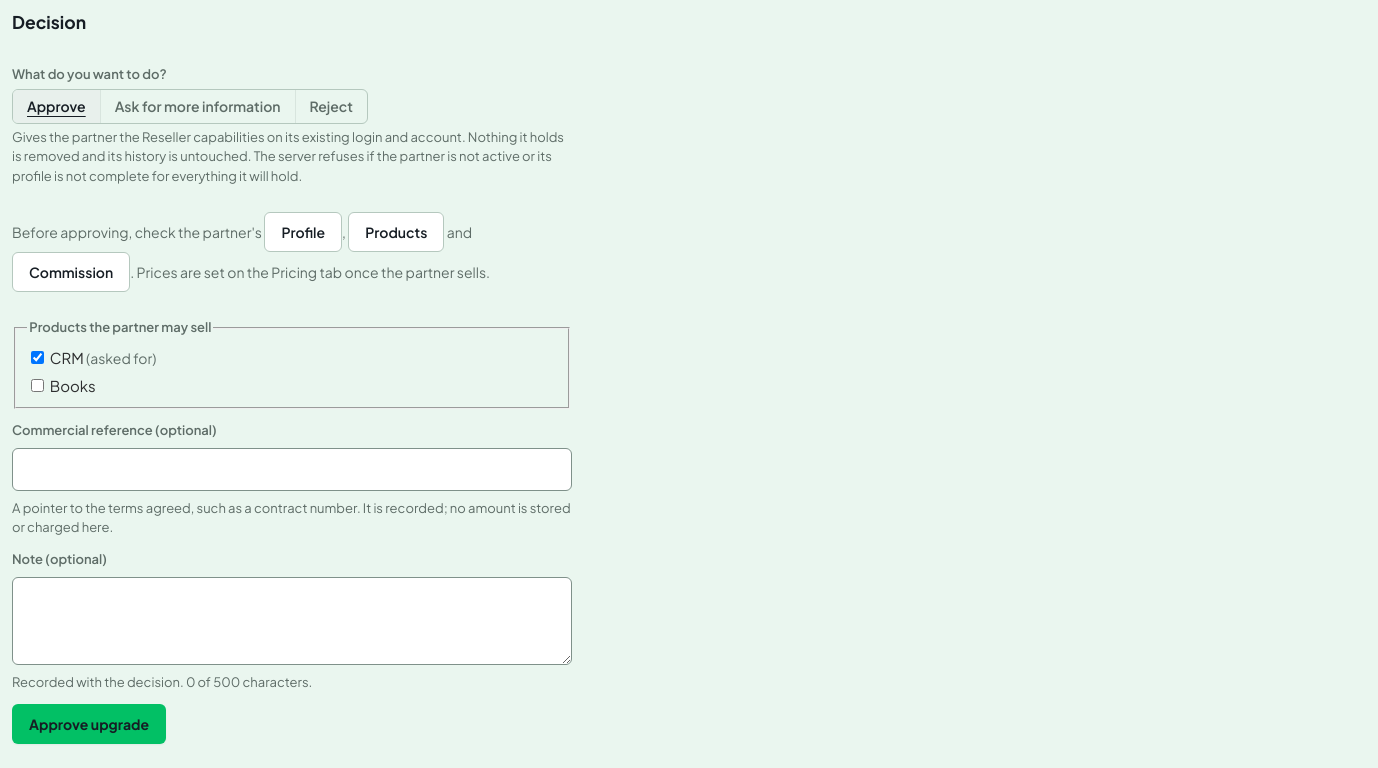
deciding › shows a conflict (already decided) in the server's words
(page scrolled)
What coordinates should you click on to do the following:
click the button "Approve upgrade"
I would click on:
 (89, 724)
Its box is [12, 704, 166, 744].
(page scrolled)
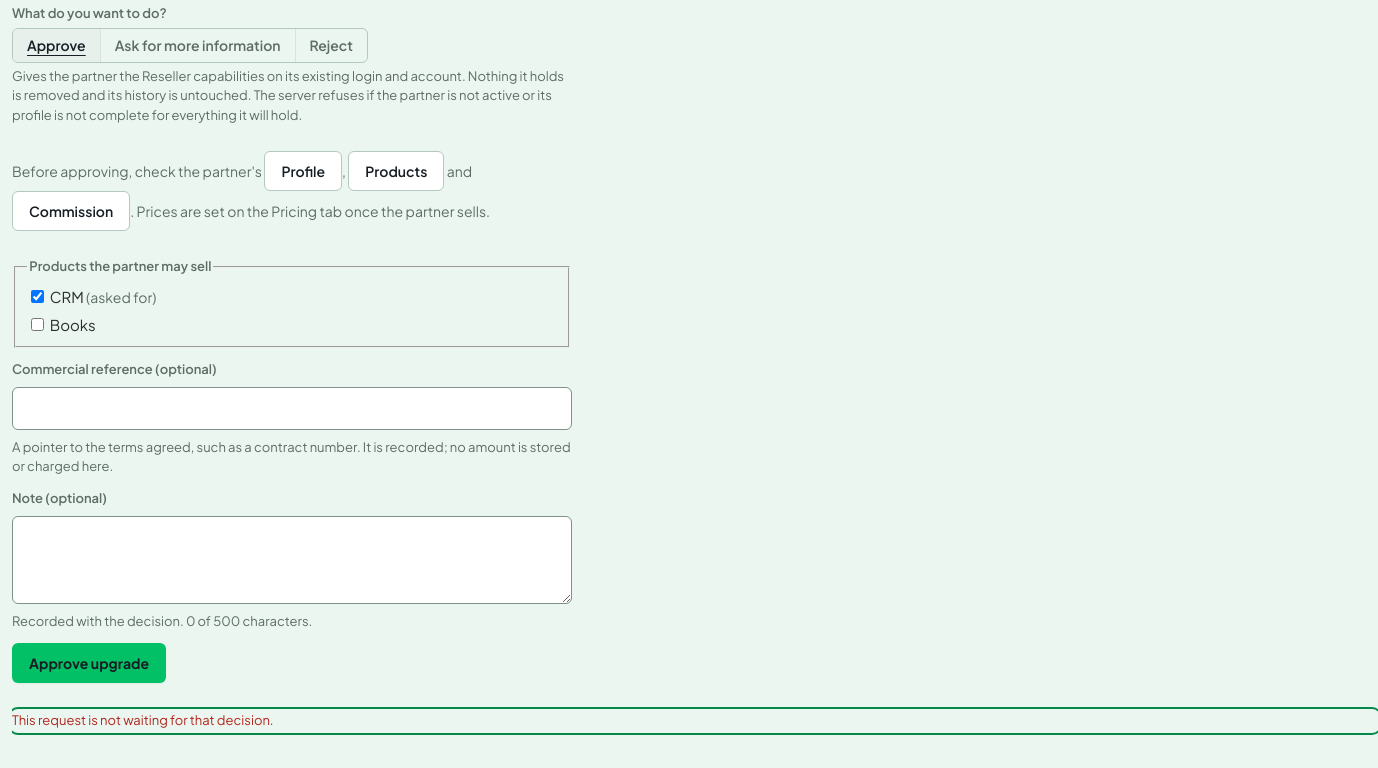
Check: the message reads "This request is not waiting for that decision.", box [12, 712, 274, 728]
